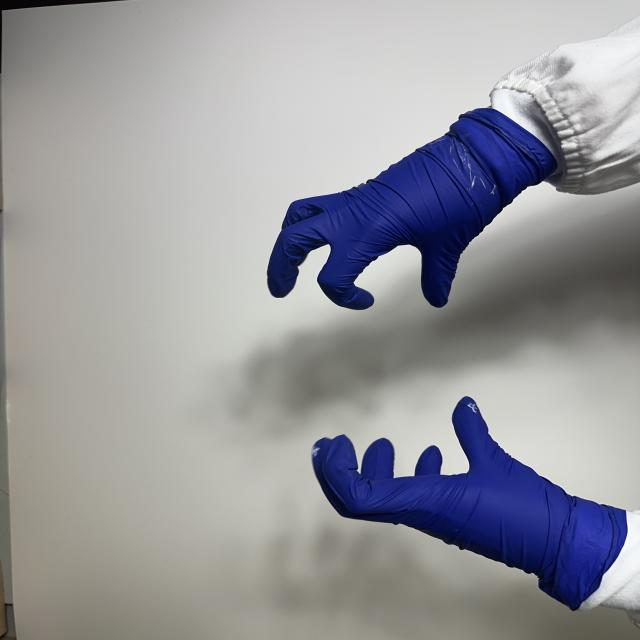gloves_contaminated: (312, 396, 631, 610), (268, 108, 556, 310)
